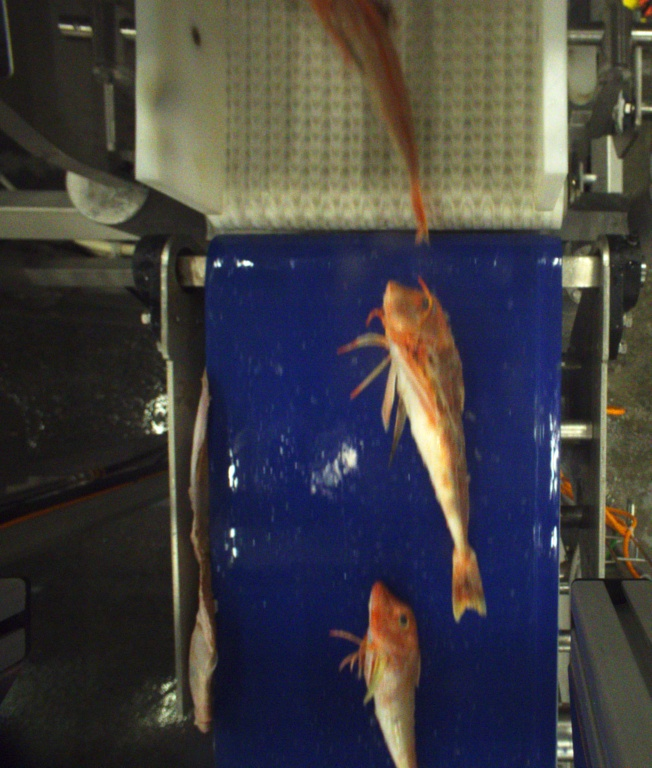GUU: (304, 0, 430, 246)
